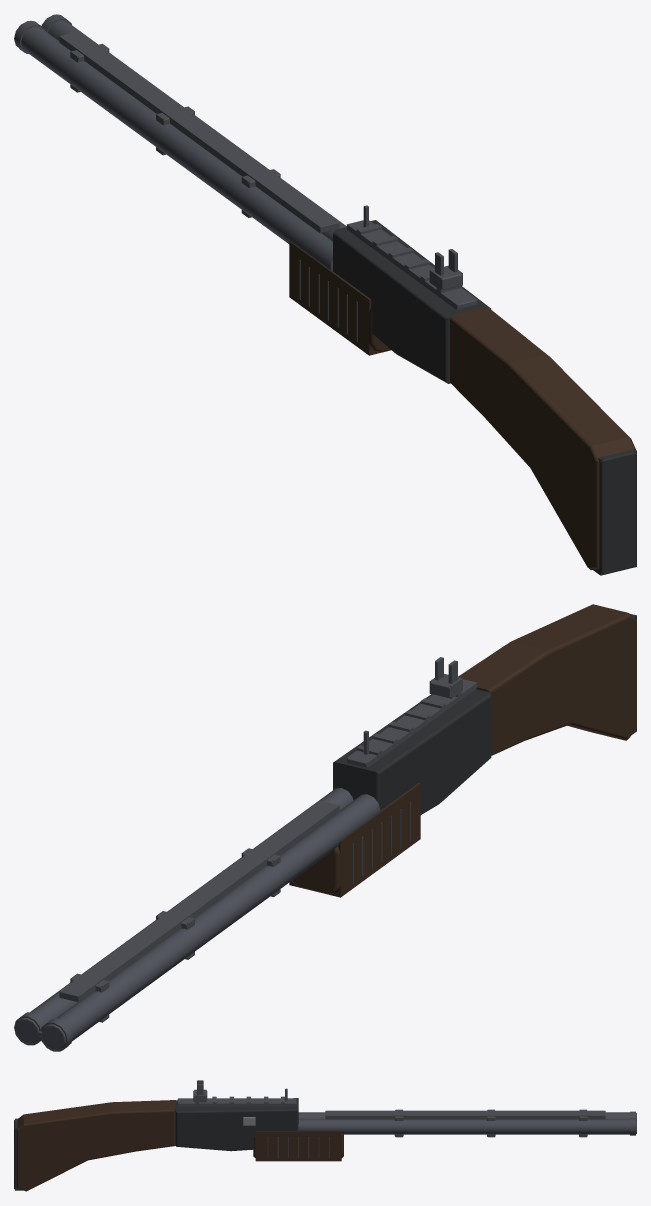
The model's file is g_twinbore.glb.
3 views of the same model, one above another, from view 1: azimuth 30°, elevation 25°; view 2: azimuth 150°, elevation 25°; view 3: azimuth 270°, elevation 25° (orthographic). The views are drawn at different scales.
Visible parts, largest first — view 1: L0, L1; view 2: L0, L1; view 3: L0, L1.
Boxes of the visible parts, x1,y1,x2,y2 form: L0: (14, 14, 636, 574); L1: (18, 14, 636, 575); L0: (14, 604, 636, 1051); L1: (15, 614, 636, 1050); L0: (14, 1080, 636, 1191); L1: (15, 1080, 635, 1190).
Bounding box in the file's own units: 0.0544 × 0.1875 × 1.02.
